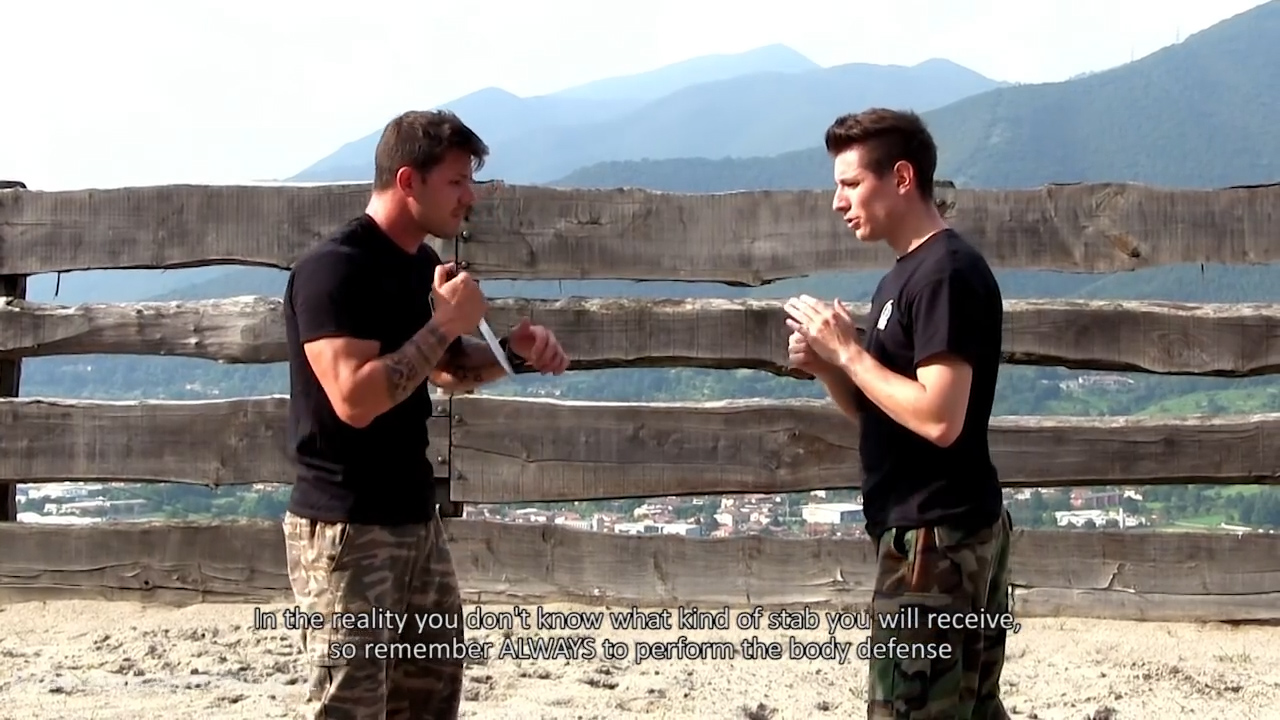knife: (434, 259, 520, 386)
